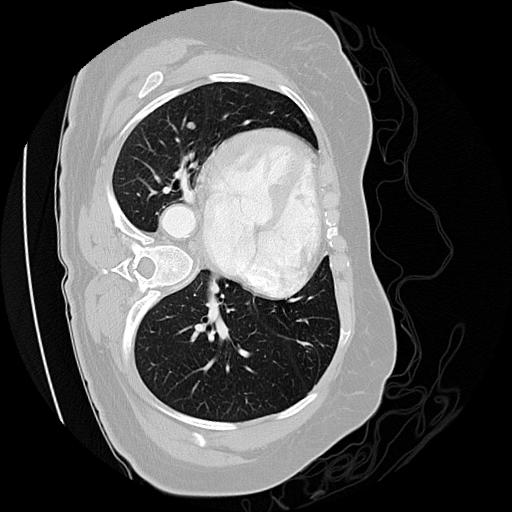nodule: (185, 120, 201, 136)
